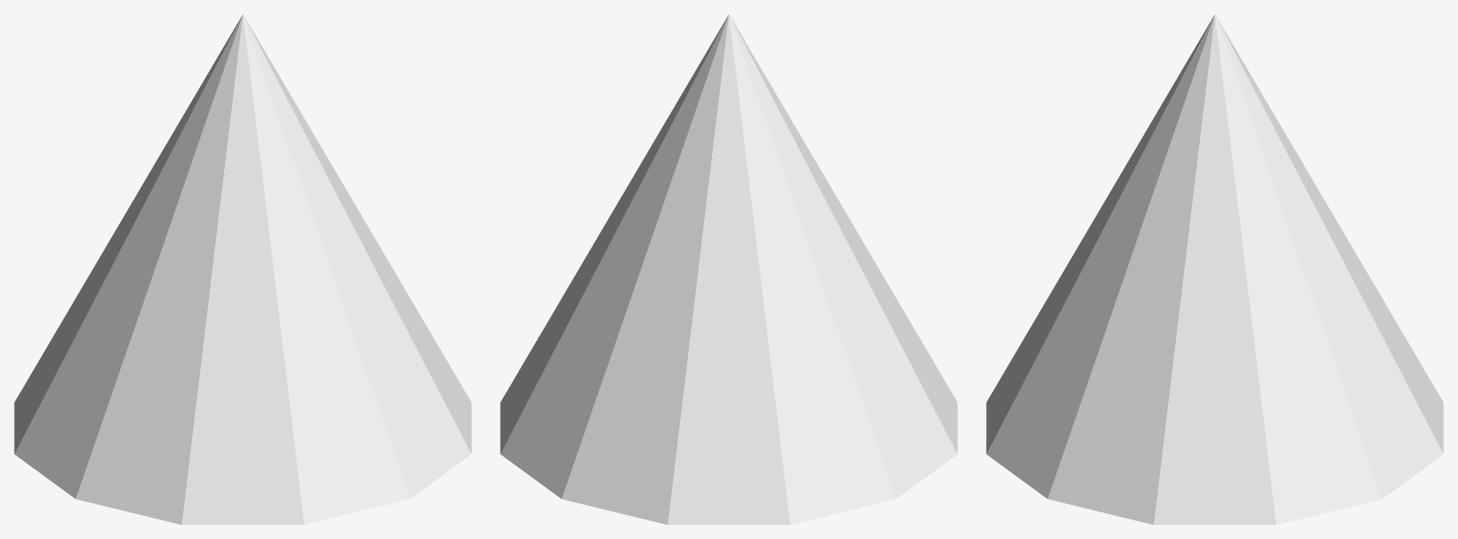
File: m_boid_rare.gltf
3 renders of one model, left to right at view 1: azimuth 30°, elevation 25°; view 2: azimuth 150°, elevation 25°; view 3: azimuth 270°, elevation 25°, orthographic.
Visible parts, largest first — view 1: cone; view 2: cone; view 3: cone.
Boxes of the visible parts, x1,y1,x2,y2 form: cone: [14, 14, 471, 524]; cone: [500, 14, 957, 524]; cone: [986, 14, 1443, 524].
Size of the model in its own units: 1 by 1 by 1.
Materials: 1 (1 with a texture image).
